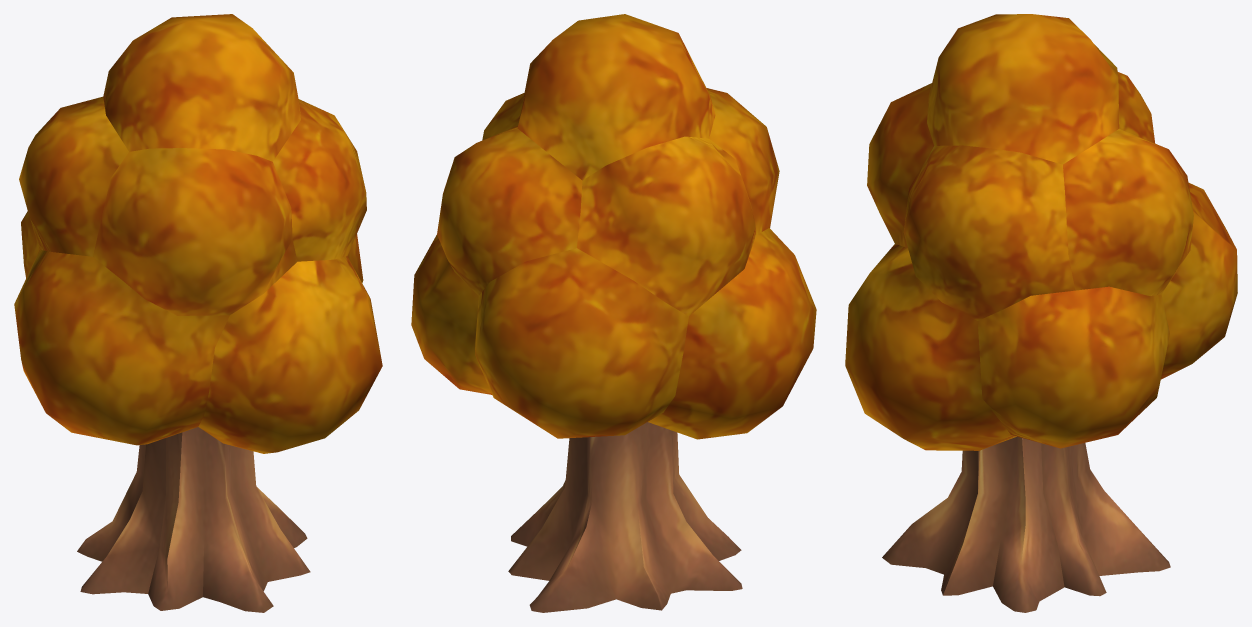
The model's file is tree3_HD.fbx.
The picture shows the model from 3 angles, left to right: view 1: azimuth 30°, elevation 25°; view 2: azimuth 150°, elevation 25°; view 3: azimuth 270°, elevation 25°; orthographic projection.
Parts seen in each view (by area): view 1: tree3; view 2: tree3; view 3: tree3.
Boxes of the visible parts, box(x1,y1,x2,y2) form: tree3: box(14, 14, 382, 612); tree3: box(411, 14, 816, 612); tree3: box(845, 14, 1237, 612).
Bounding box in the file's own units: 1.4 × 2.05 × 1.34.
